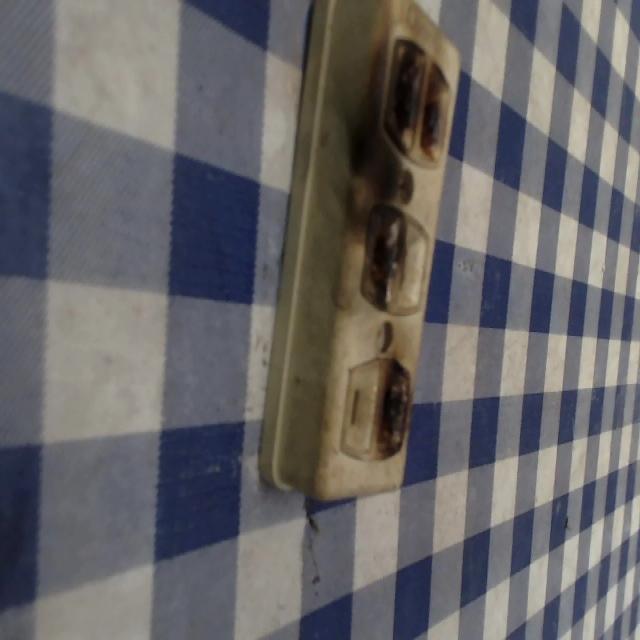-: (382, 25, 449, 163), (357, 197, 404, 311), (376, 353, 412, 467)
